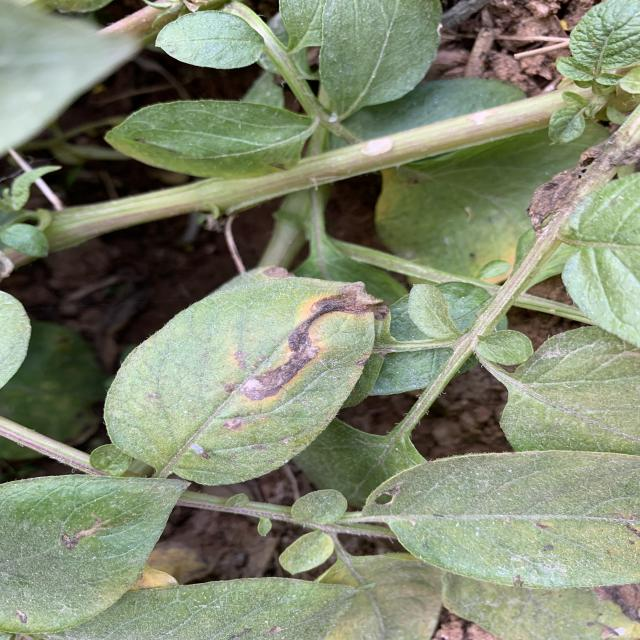lateblight: (240, 282, 380, 400)
